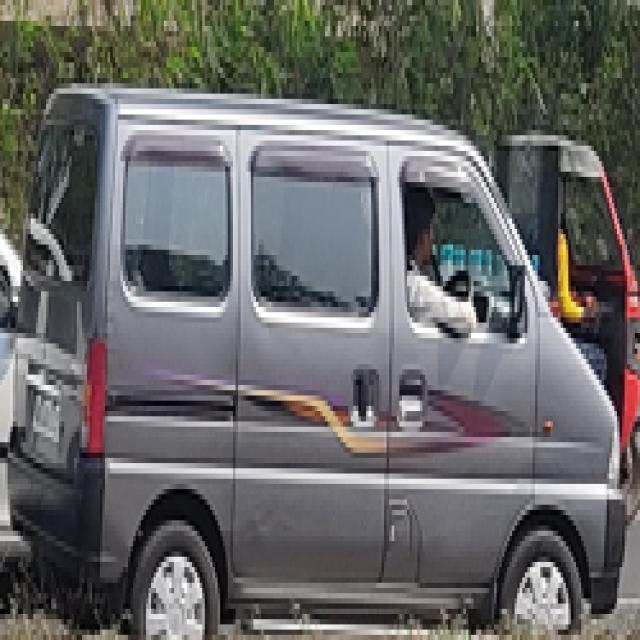van: (10, 83, 625, 640)
